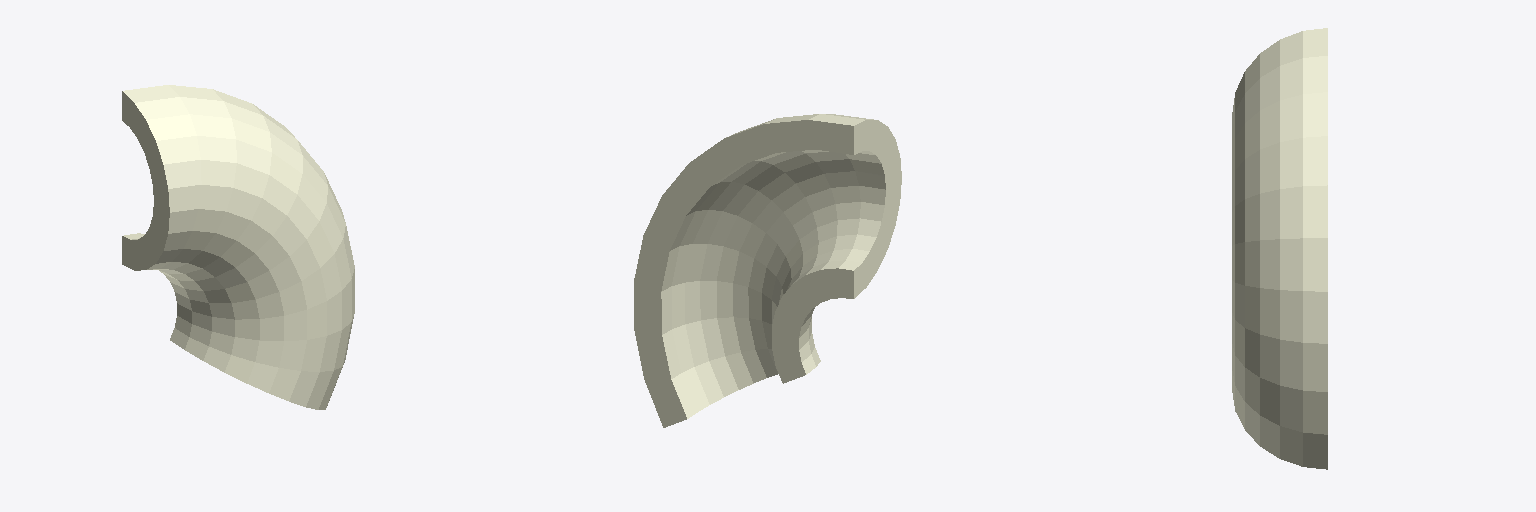
The model's file is section_014.obj.
The picture shows the model from 3 angles: view 1: azimuth 30°, elevation 25°; view 2: azimuth 150°, elevation 25°; view 3: azimuth 270°, elevation 25°; orthographic projection.
Size of the model in its own units: 7.96 by 12.06 by 3.